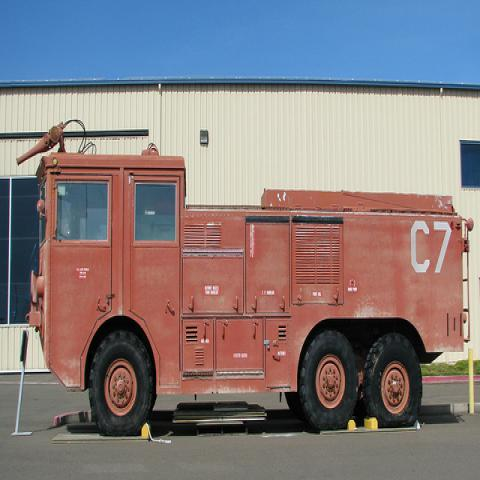truck: (16, 118, 475, 436)
